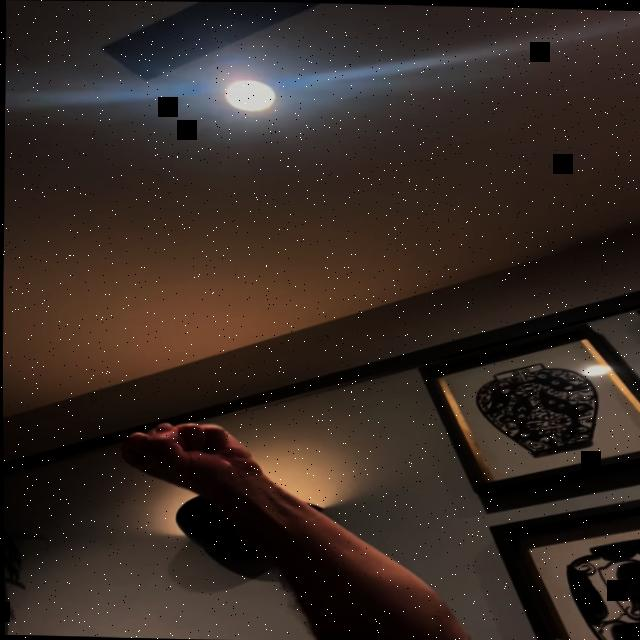Rock: (115, 418, 266, 491)
